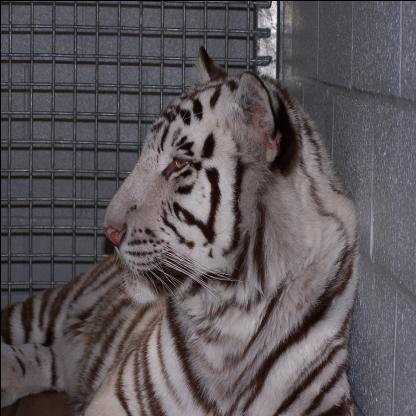tiger: (88, 61, 282, 318)
